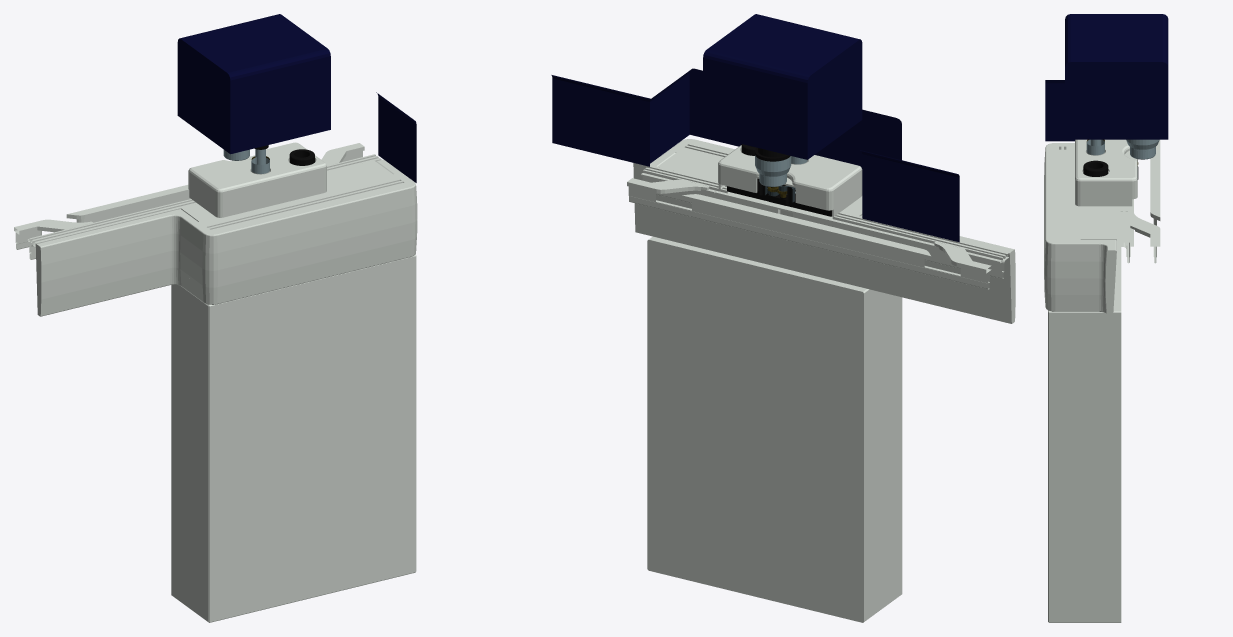
File: Decapper.obj
3 renders of one model, left to right at view 1: azimuth 30°, elevation 25°; view 2: azimuth 150°, elevation 25°; view 3: azimuth 270°, elevation 25°, orthographic. The views are drawn at different scales.
Parts seen in each view (by area): view 1: object1, object23, object25, object5, object22, object2, object24, object21; view 2: object1, object24, object25, object22, object23, object5, object2, object18, object11; view 3: object1, object25, object23, object5, object22, object2, object21, object24, object18, object6.
Boxes of the visible parts, box(x1,y1,x2,y2) form: object1: box(171, 255, 416, 622); object23: box(35, 159, 417, 316); object25: box(177, 14, 330, 154); object5: box(188, 142, 326, 217); object22: box(14, 143, 381, 259); object2: box(181, 161, 398, 225); object24: box(376, 92, 416, 182); object21: box(205, 179, 405, 230); object1: box(647, 236, 902, 622); object24: box(551, 68, 959, 242); object25: box(703, 14, 862, 159); object22: box(627, 165, 1009, 289); object23: box(633, 139, 1015, 323); object5: box(718, 145, 862, 216); object2: box(657, 148, 862, 216); object18: box(755, 155, 795, 189); object11: box(727, 180, 831, 216); object1: box(1048, 247, 1121, 622); object25: box(1065, 14, 1168, 139); object23: box(1044, 143, 1116, 318); object5: box(1075, 139, 1137, 206); object22: box(1117, 140, 1160, 263); object2: box(1068, 146, 1116, 240); object21: box(1055, 146, 1068, 239); object24: box(1045, 80, 1074, 141); object18: box(1090, 139, 1159, 159); object6: box(1083, 160, 1108, 176).
Size of the model in its own units: 43.73 by 51.01 by 15.42.
